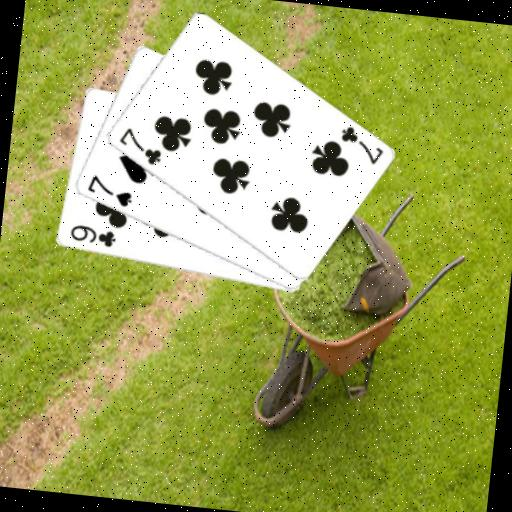7C: (335, 123, 387, 168), (114, 123, 165, 168)
7S: (82, 171, 136, 210)
9C: (65, 221, 118, 250)
